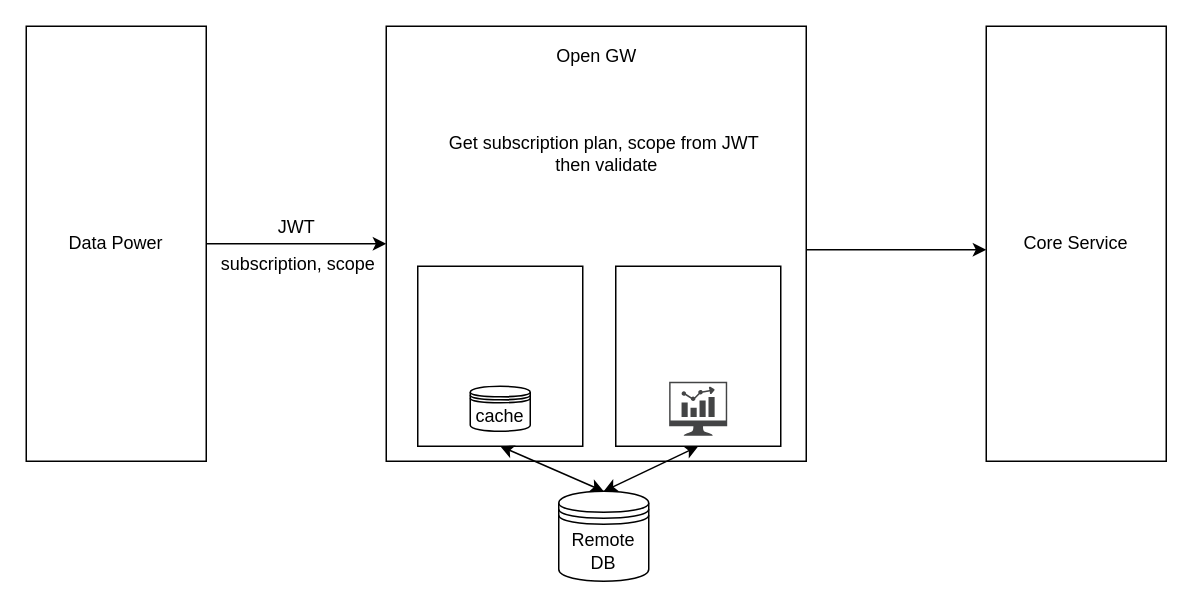
Some shapes in this 1193 by 608 pixel diagram are drawn without their labels. The box of each missing label's shape, as (x1, y1, x2, y2) in pixels:
Monitor: (614, 265, 781, 446)
Policy: (416, 265, 583, 446)
